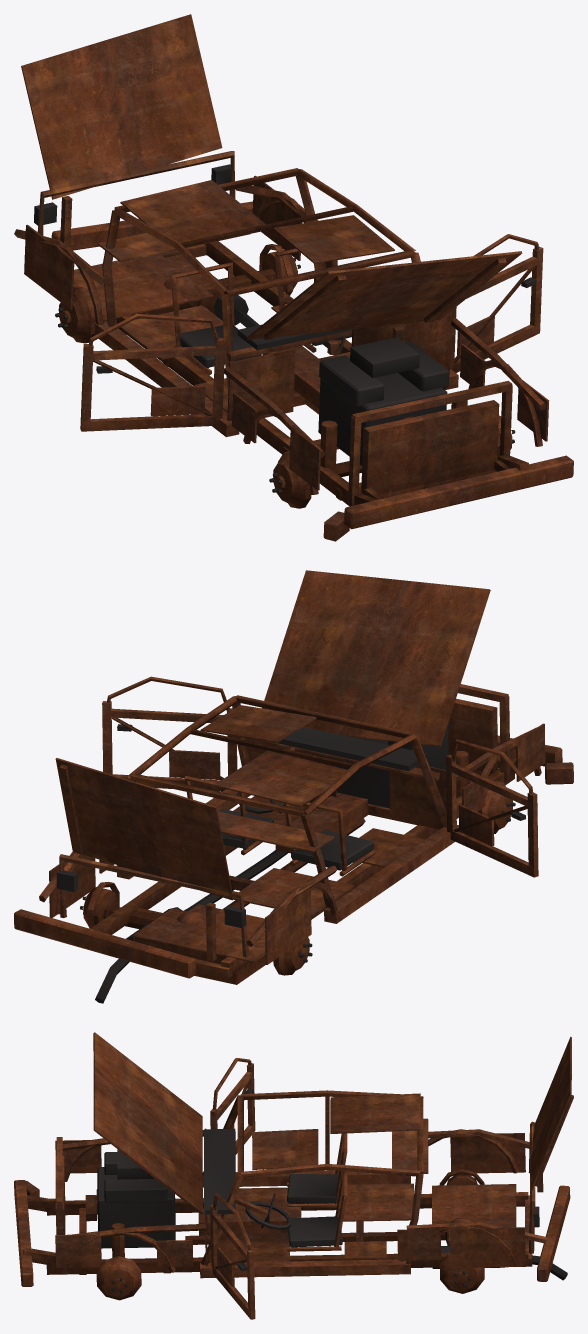
Rendered from skeleton_car_frame.glb.
3 renders of one model, top to bottom at view 1: azimuth 30°, elevation 25°; view 2: azimuth 150°, elevation 25°; view 3: azimuth 270°, elevation 25°, orthographic. The views are drawn at different scales.
Parts seen in each view (by area): view 1: skeleton_car_frame_rust_metal, skeleton_car_frame_burnt_black; view 2: skeleton_car_frame_rust_metal, skeleton_car_frame_burnt_black; view 3: skeleton_car_frame_rust_metal, skeleton_car_frame_burnt_black.
Boxes of the visible parts, box(x1,y1,x2,y2) form: skeleton_car_frame_rust_metal: box(14, 14, 573, 541); skeleton_car_frame_burnt_black: box(34, 164, 536, 493); skeleton_car_frame_rust_metal: box(14, 570, 573, 984); skeleton_car_frame_burnt_black: box(56, 719, 525, 1003); skeleton_car_frame_rust_metal: box(14, 1032, 573, 1319); skeleton_car_frame_burnt_black: box(97, 1088, 567, 1293).
Size of the model in its own units: 3.54 by 1.85 by 4.65.
2 materials, 1 textured.
